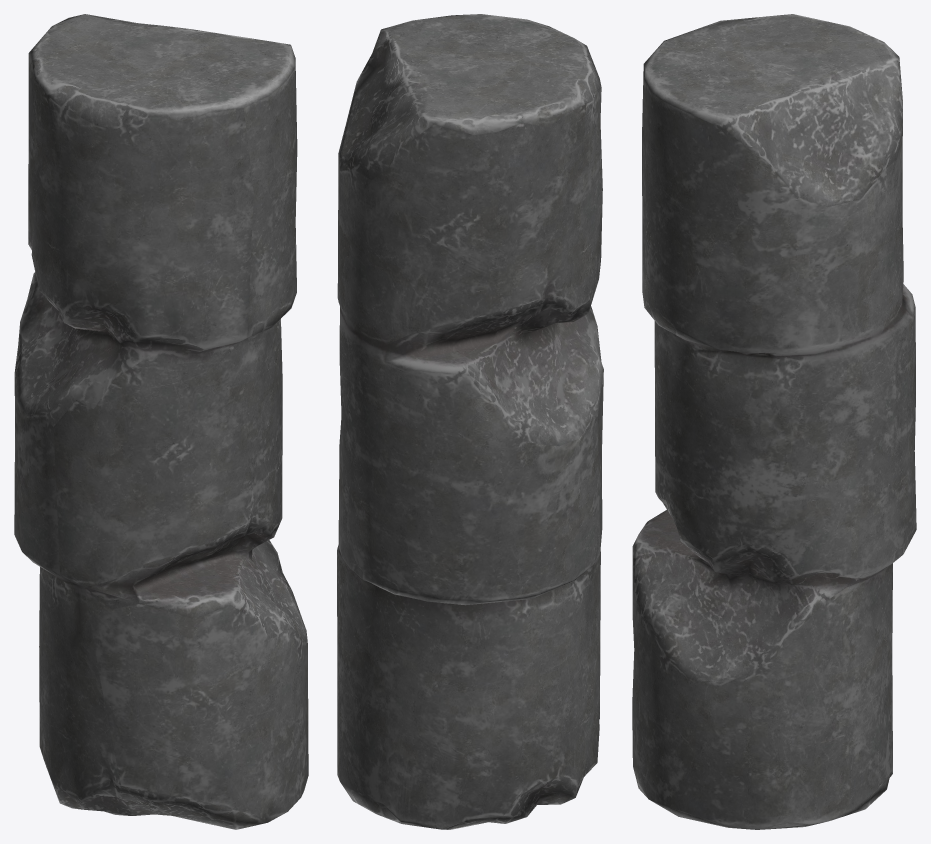
File: basaltColumn_edit_for_FBX.fbx
The picture shows the model from 3 angles, left to right: view 1: azimuth 30°, elevation 25°; view 2: azimuth 150°, elevation 25°; view 3: azimuth 270°, elevation 25°; orthographic projection. The views are drawn at different scales.
Parts seen in each view (by area): view 1: basalt_column; view 2: basalt_column; view 3: basalt_column.
Boxes of the visible parts, <box> form: basalt_column: <box>14,14,308,829</box>; basalt_column: <box>337,14,603,829</box>; basalt_column: <box>632,14,916,829</box>.
Size of the model in its own units: 70.38 by 200 by 72.63.
